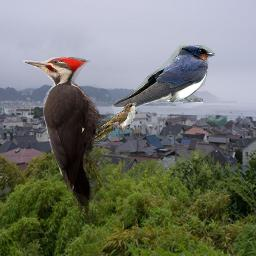Cuckoo: (86, 101, 139, 143)
Swallow: (100, 45, 215, 125)
Woodpecker: (21, 57, 104, 214)
